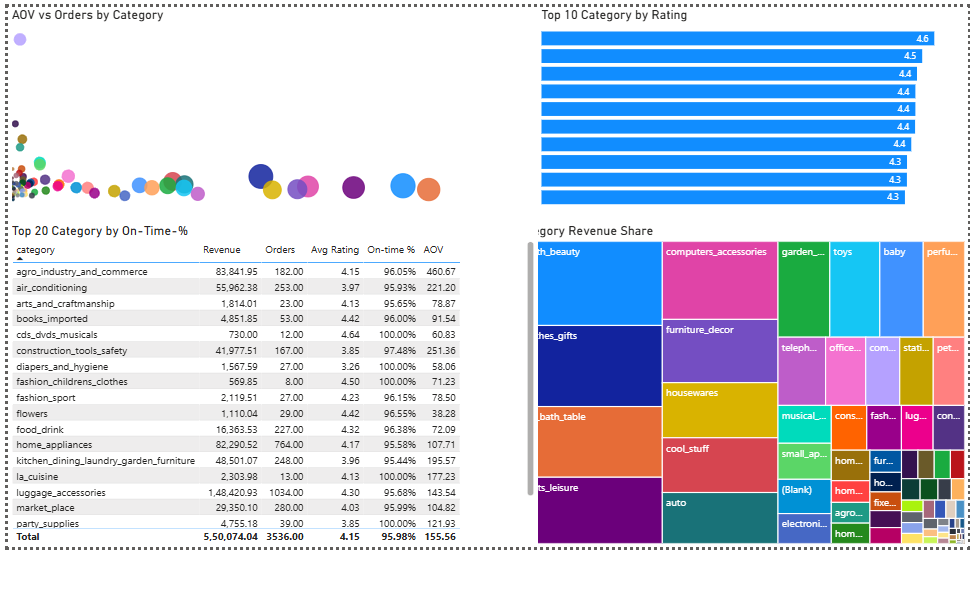

What the dashboard file says about the page in this screenshot:
{"tool":"powerbi","page":{"name":"Category & Product","canvas":[1280,720],"ordinal":2},"visuals":[{"type":"treemap","title":"Category Revenue Share","fields":{"Group":["public bi_fact_sales.category"],"Values":["public bi_fact_sales.Revenue"]},"box":[670,288,610,432],"z":0},{"type":"scatterChart","title":"AOV vs Orders by Category","fields":{"X":["public bi_fact_sales.Orders"],"Y":["public bi_fact_sales.AOV"],"Series":["public bi_fact_sales.category"],"Size":["public bi_fact_sales.Revenue"]},"box":[0,0,600,268],"z":1000},{"type":"barChart","title":"Top 10 Category by Rating","fields":{"Y":["public bi_fact_sales.Avg Rating"],"Category":["public bi_fact_sales.category"]},"box":[706,0,574,268],"z":2000},{"type":"tableEx","title":"Top 20 Category by On-Time-%","fields":{"Values":["public bi_fact_sales.category","public bi_fact_sales.Revenue","public bi_fact_sales.Orders","public bi_fact_sales.Avg Rating","public bi_fact_sales.On-time %","public bi_fact_sales.AOV"]},"box":[0,288,706,432],"z":3000}]}

Visuals, with their boxes on the page's 1280x720 design canvas (x1, y1, x2, y2). These are canvas units, not pixel positions in the 970x594 screenshot, which may show the page scaled, cropped or inside an application window:
"Category Revenue Share" treemap: 670 288 1280 720
"AOV vs Orders by Category" scatterChart: 0 0 600 268
"Top 10 Category by Rating" barChart: 706 0 1280 268
"Top 20 Category by On-Time-%" tableEx: 0 288 706 720
